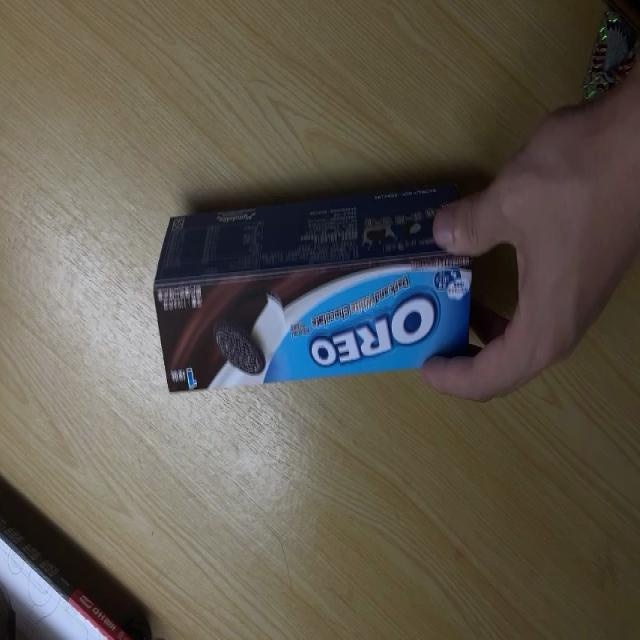Oreo: (152, 180, 475, 394)
